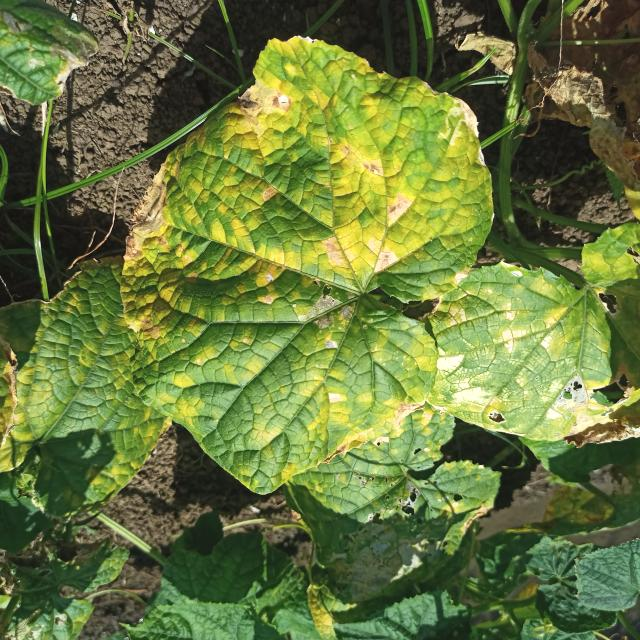disease_cucumber: (119, 39, 492, 494), (436, 254, 638, 443)
